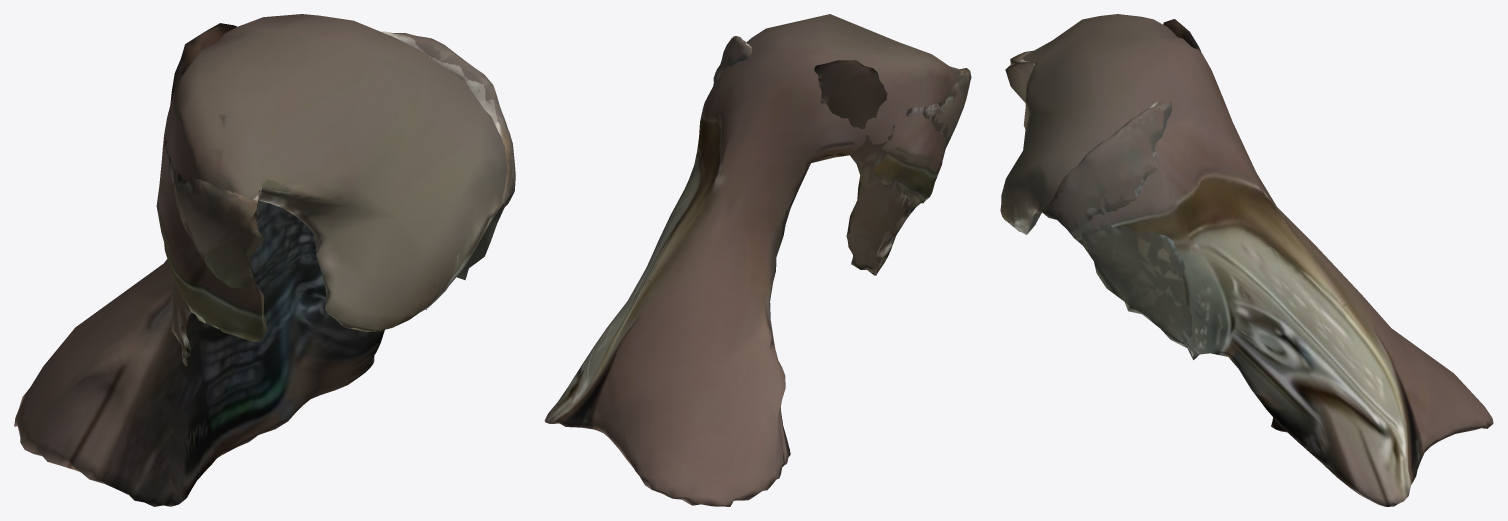
Rendered from kiri-w-obj-mask.glb.
3 renders of one model, left to right at view 1: azimuth 30°, elevation 25°; view 2: azimuth 150°, elevation 25°; view 3: azimuth 270°, elevation 25°, orthographic. The views are drawn at different scales.
Visible parts, largest first — view 1: 3DModel; view 2: 3DModel; view 3: 3DModel.
Boxes of the visible parts, x1,y1,x2,y2 form: 3DModel: (14, 14, 515, 506); 3DModel: (544, 14, 971, 506); 3DModel: (1000, 14, 1493, 506).
Size of the model in its own units: 0.1722 by 0.2243 by 0.2526.
1 material, 1 textured.
